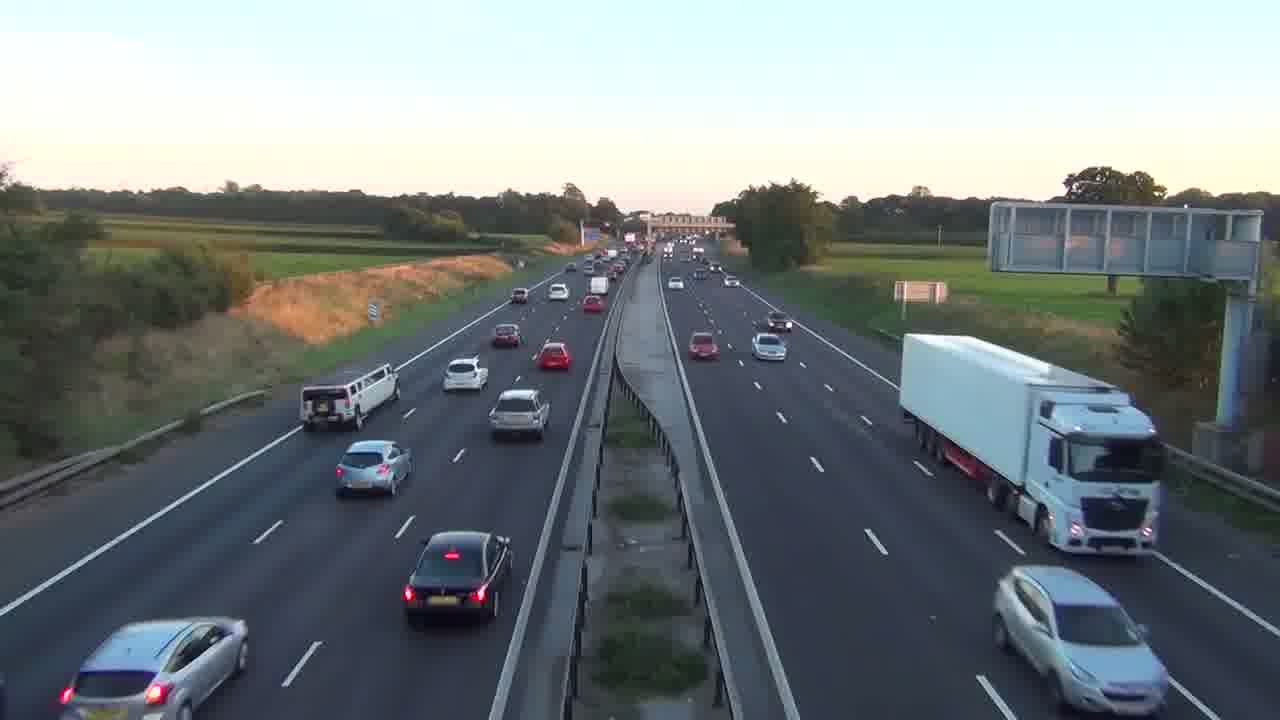car: (990, 563, 1171, 716), (54, 616, 250, 720), (400, 529, 514, 626), (334, 438, 413, 498), (488, 387, 551, 441), (443, 355, 489, 392), (533, 340, 574, 371), (751, 333, 787, 362), (688, 331, 720, 362), (492, 324, 521, 349)
truck: (897, 332, 1168, 556), (300, 363, 402, 432)
